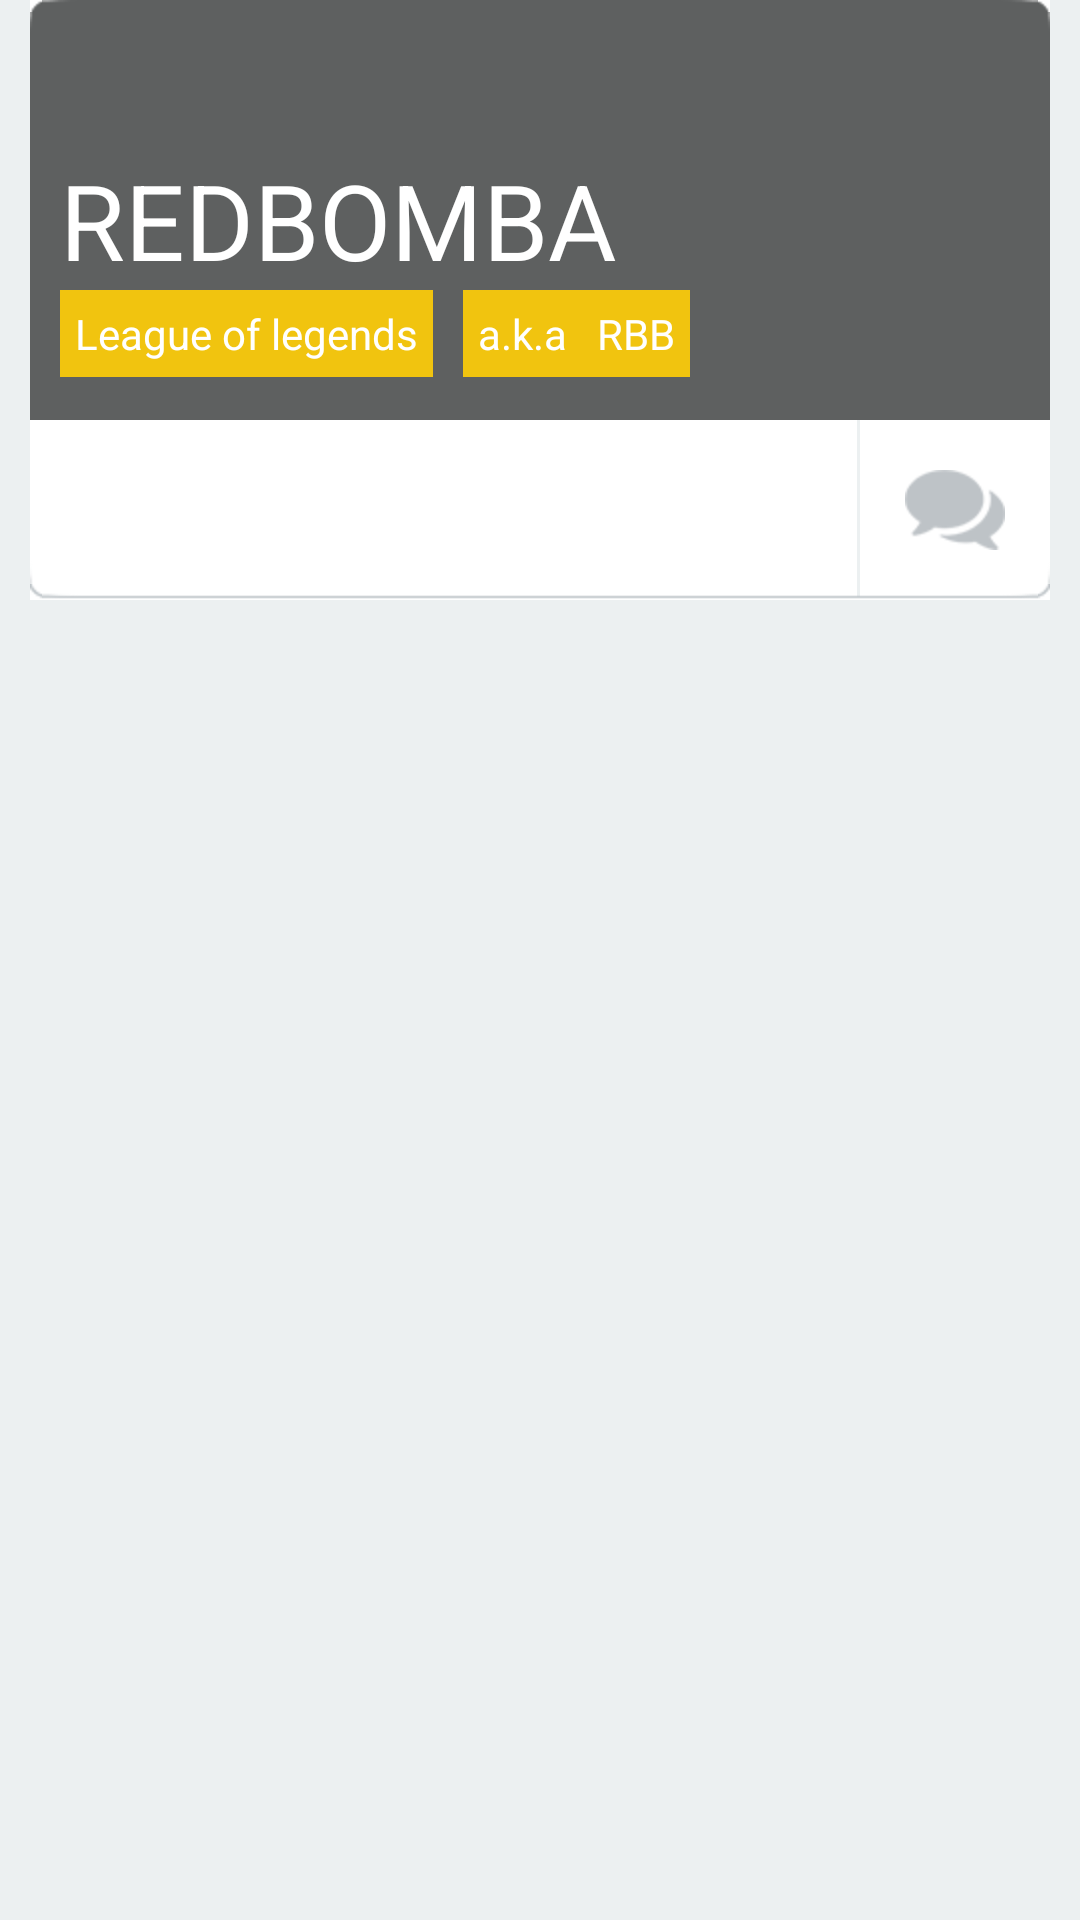

Screen size 1080×1920. Icon name, then its center in pixels as [x,y]:
group chat: [955,510]
